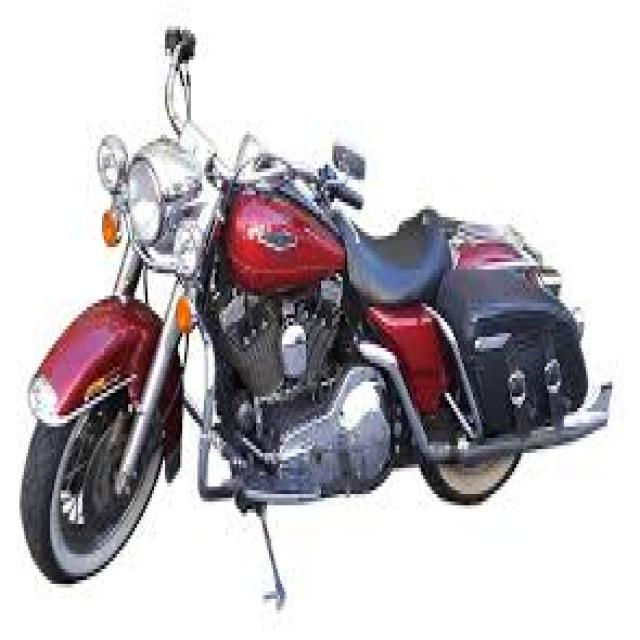Bike: (33, 20, 616, 552)
